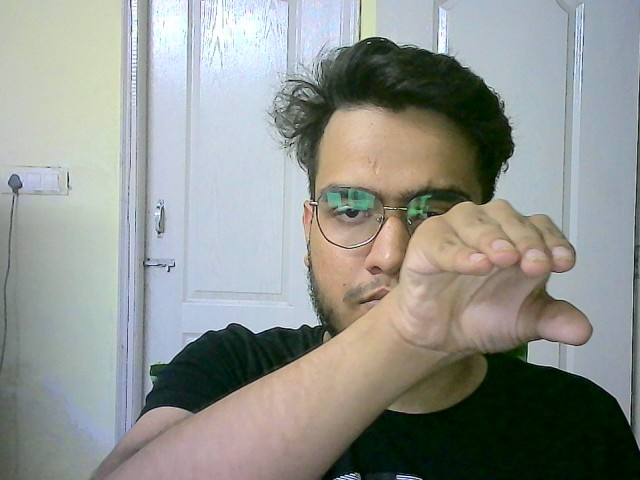No: (391, 204, 603, 375)
